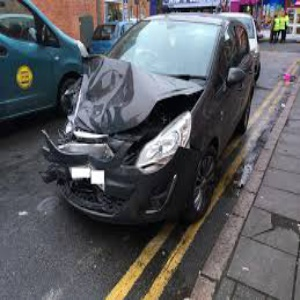bonnet: (77, 56, 167, 128)
bumper: (34, 138, 194, 219)
